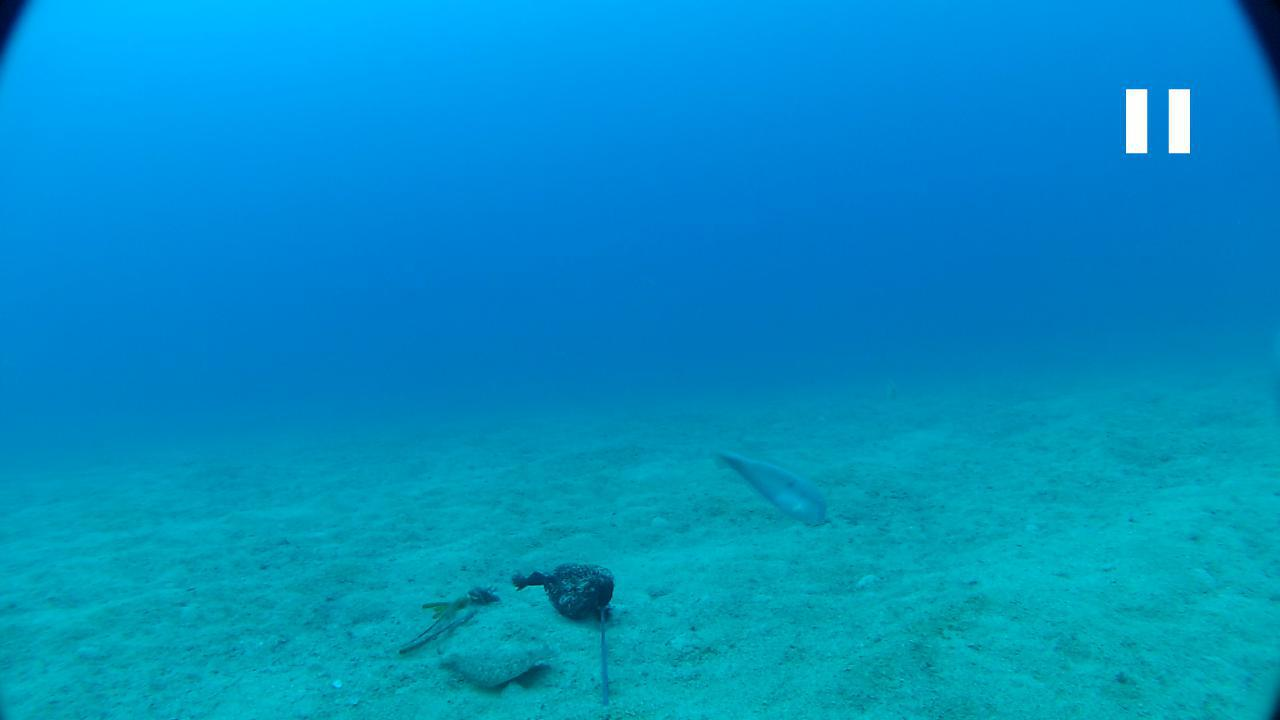bothus: (434, 642, 562, 689)
raor: (712, 443, 832, 528)
